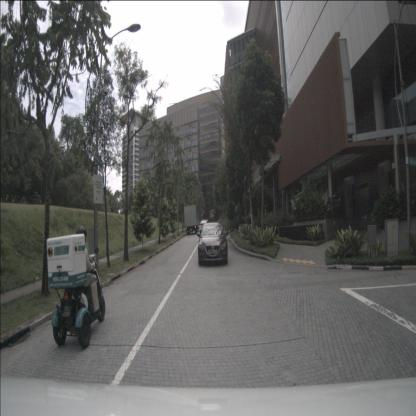vehicle-car: (197, 222, 228, 266), (198, 219, 208, 234)
vehicle-motorcycle: (47, 226, 106, 348)
vehicle-truck: (184, 205, 200, 235)
